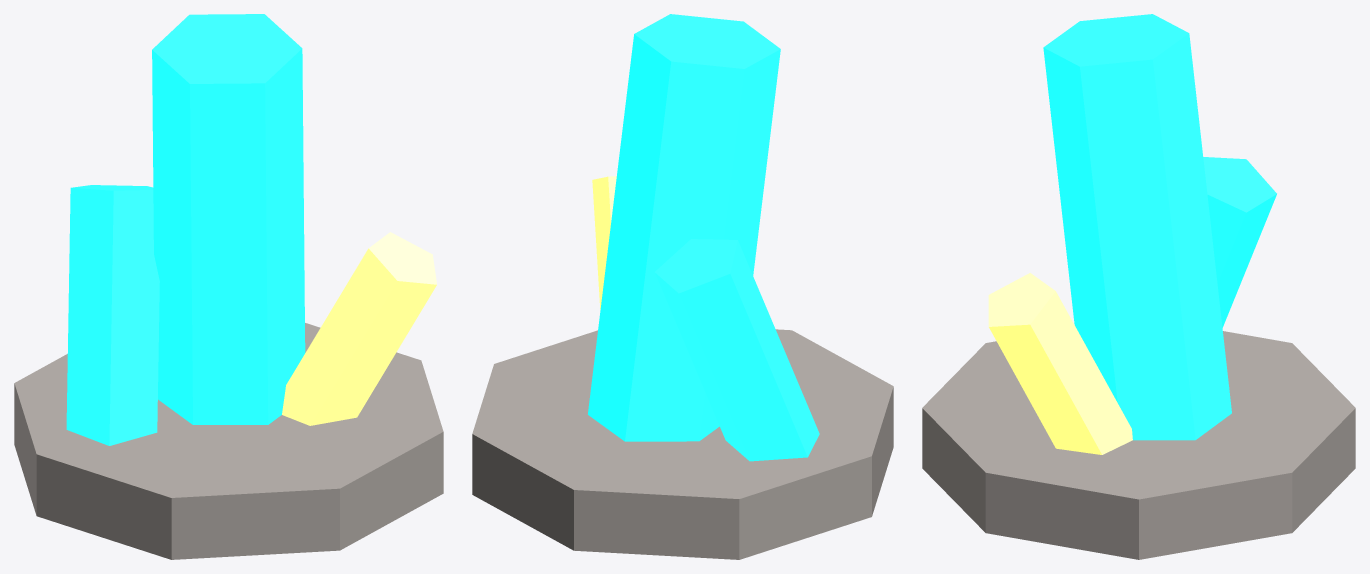
The model's file is crystal_cluster.glb.
3 views of the same model, side by side, from view 1: azimuth 30°, elevation 25°; view 2: azimuth 150°, elevation 25°; view 3: azimuth 270°, elevation 25° (orthographic). The views are drawn at different scales.
Visible parts, largest first — view 1: Crystal_Main, Cylinder, Crystal_Side1, Crystal_Side2; view 2: Cylinder, Crystal_Main, Crystal_Side1, Crystal_Side2; view 3: Cylinder, Crystal_Main, Crystal_Side2, Crystal_Side1.
Part boxes in pixels (x1,y1,x2,y2): Crystal_Main: [152, 14, 305, 424]; Cylinder: [14, 323, 443, 559]; Crystal_Side1: [66, 185, 159, 445]; Crystal_Side2: [282, 232, 436, 425]; Cylinder: [472, 329, 893, 559]; Crystal_Main: [588, 14, 780, 441]; Crystal_Side1: [654, 239, 819, 461]; Crystal_Side2: [592, 176, 616, 309]; Cylinder: [922, 331, 1355, 559]; Crystal_Main: [1043, 14, 1231, 440]; Crystal_Side2: [988, 273, 1132, 454]; Crystal_Side1: [1203, 157, 1276, 327].
Bounding box in the file's own units: 1.3 × 1.42 × 1.3.
